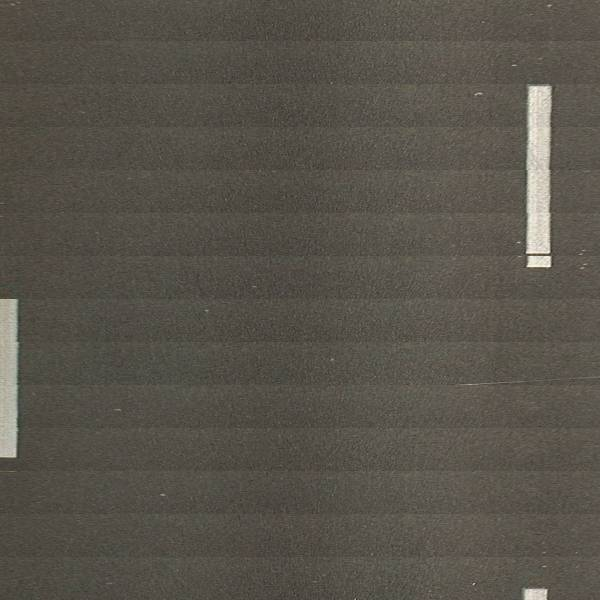road_damage: (458, 374, 599, 389)
